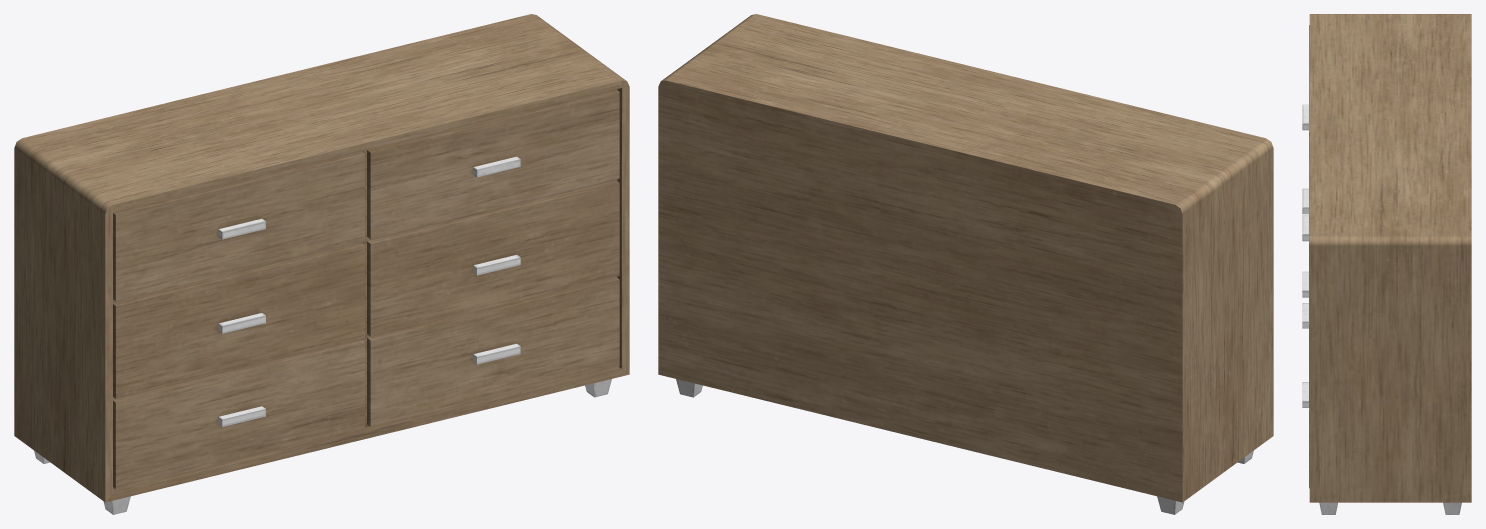
Rendered from dresser.glb.
3 renders of one model, left to right at view 1: azimuth 30°, elevation 25°; view 2: azimuth 150°, elevation 25°; view 3: azimuth 270°, elevation 25°, orthographic. The views are drawn at different scales.
Parts seen in each view (by area): view 1: Dresser; view 2: Dresser; view 3: Dresser.
Part boxes in pixels (x1=…): Dresser: x1=14, y1=14, x2=629, y2=514; Dresser: x1=658, y1=14, x2=1273, y2=514; Dresser: x1=1302, y1=14, x2=1471, y2=514.
Bounding box in the file's own units: 2.18 × 1.26 × 0.6834.
1 material, 1 textured.
